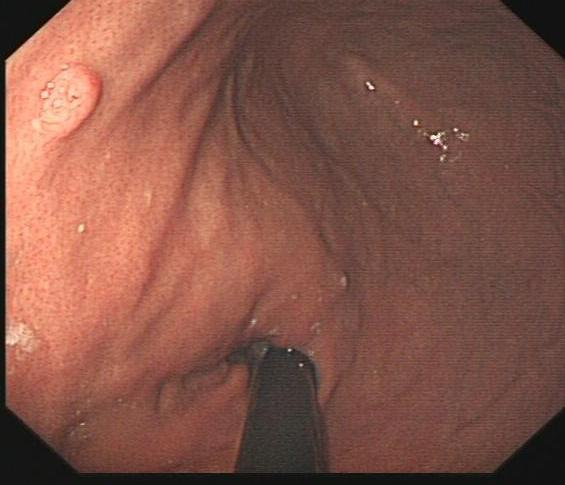Polyp: (43, 66, 107, 136)
